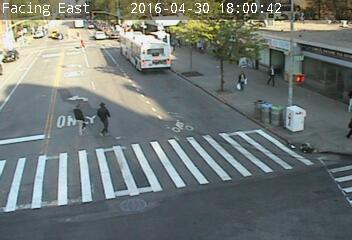neg: (131, 168, 164, 212), (249, 97, 281, 139), (178, 39, 205, 76), (10, 85, 37, 122), (178, 116, 200, 146), (62, 171, 83, 200), (228, 172, 248, 199), (138, 46, 157, 72), (46, 45, 64, 70), (6, 44, 20, 63), (29, 24, 41, 41)
pos: (92, 100, 120, 139), (61, 100, 87, 134), (233, 71, 250, 93), (263, 61, 280, 83), (75, 33, 89, 51)
